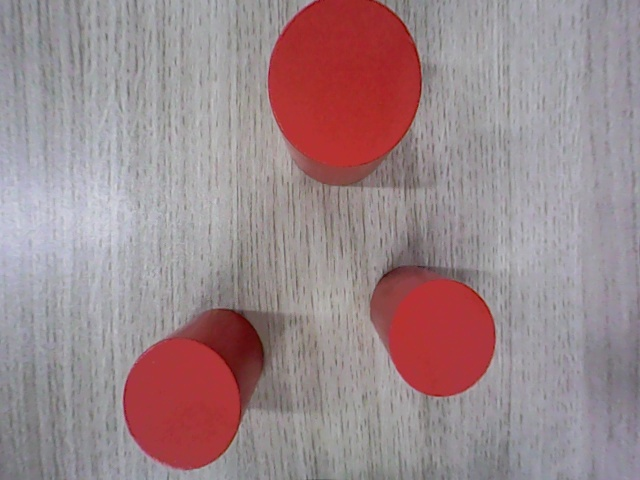upside of cylinder: (267, 0, 422, 168), (123, 337, 241, 471), (389, 279, 497, 398)
